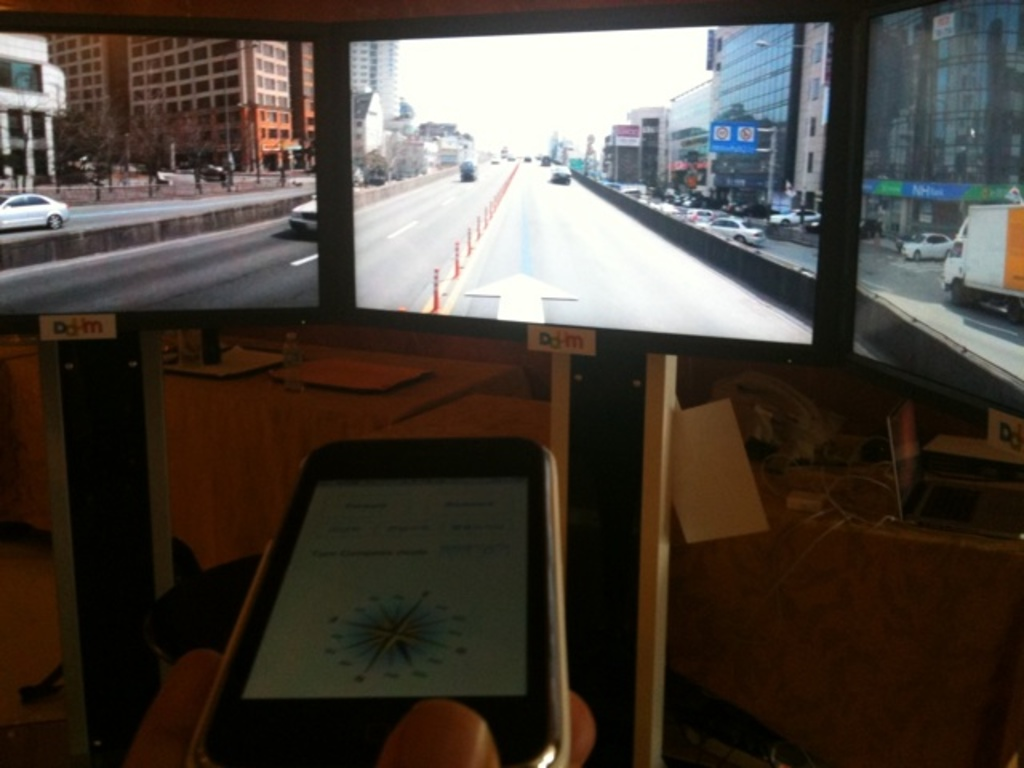Car: (0, 188, 70, 243), (688, 209, 769, 246), (900, 222, 960, 264), (284, 198, 326, 244)
